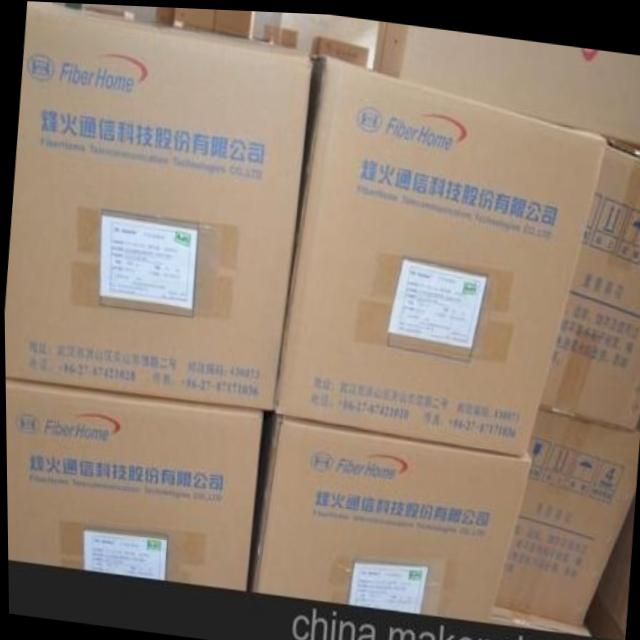box: (274, 51, 608, 450), (4, 1, 309, 407), (247, 408, 528, 619), (4, 381, 262, 589), (371, 17, 640, 141), (493, 399, 639, 620), (536, 131, 640, 424), (175, 6, 254, 39)
